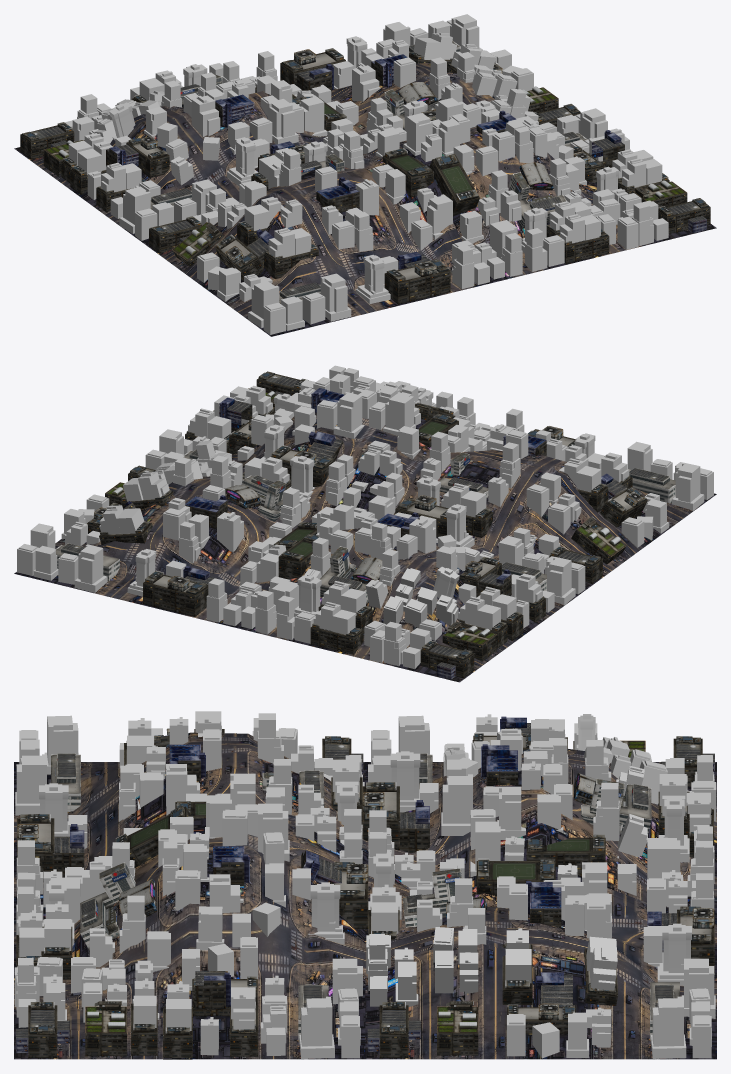
Rendered from CP_Slums_Pack_400x400_01.fbx.
3 views of the same model, one above another, from view 1: azimuth 30°, elevation 25°; view 2: azimuth 150°, elevation 25°; view 3: azimuth 270°, elevation 25° (orthographic). The views are drawn at different scales.
Visible parts, largest first — view 1: CP_Slums_Pack_400x400_01; view 2: CP_Slums_Pack_400x400_01; view 3: CP_Slums_Pack_400x400_01.
Boxes of the visible parts, bbox=[...] form: CP_Slums_Pack_400x400_01: bbox=[14, 14, 716, 336]; CP_Slums_Pack_400x400_01: bbox=[14, 365, 716, 682]; CP_Slums_Pack_400x400_01: bbox=[14, 711, 716, 1059].
Bounding box in the file's own units: 40000 × 8989 × 40000.
